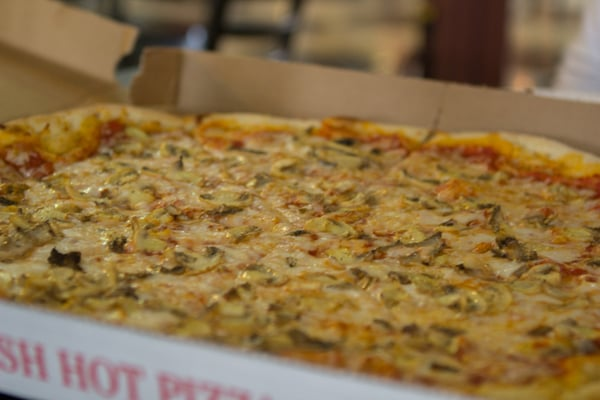sandwich: (1, 106, 600, 384)
